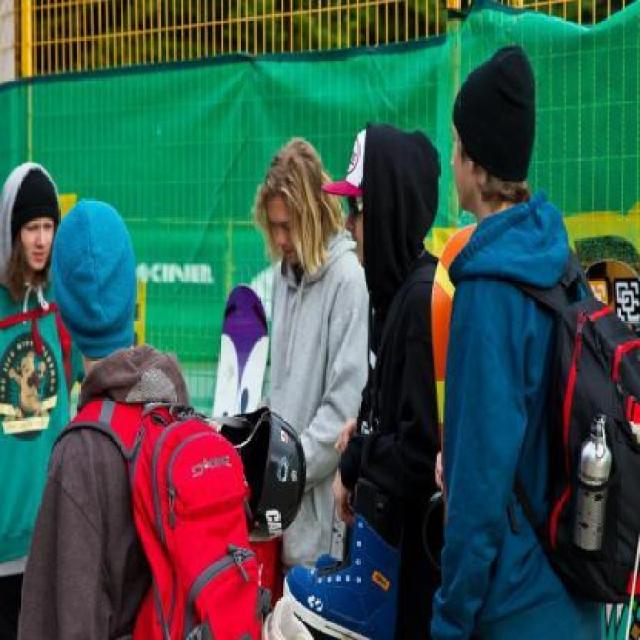backpack: (532, 260, 640, 608), (117, 395, 261, 640)
